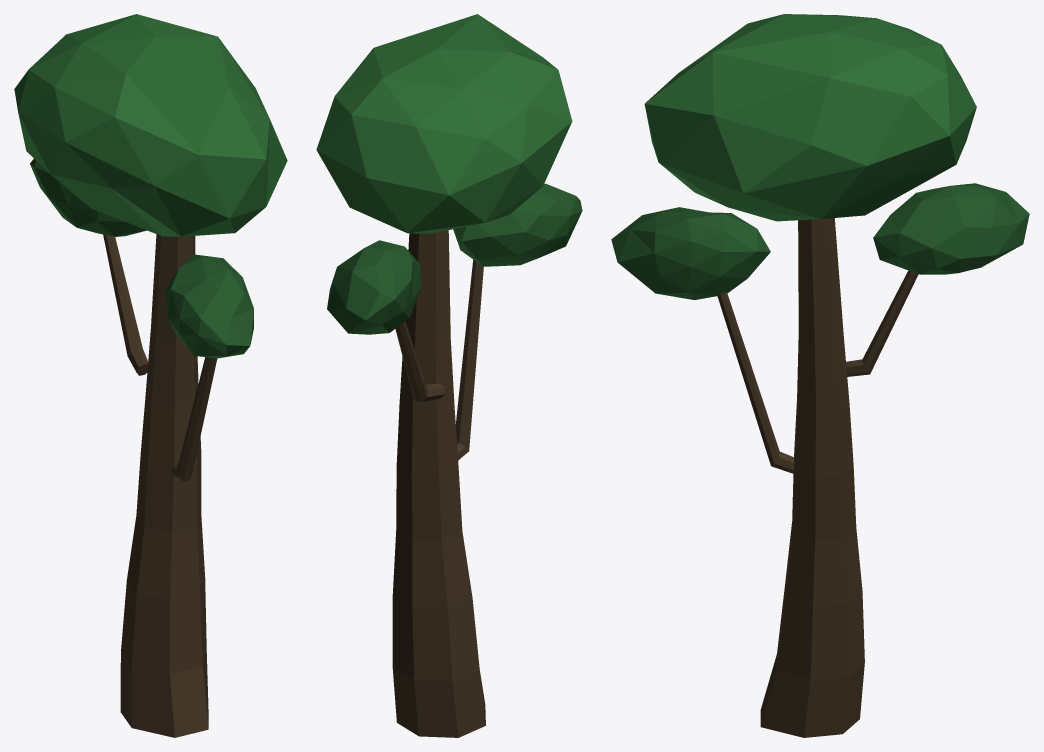
Rendered from tree_moody_verytall.glb.
3 renders of one model, left to right at view 1: azimuth 30°, elevation 25°; view 2: azimuth 150°, elevation 25°; view 3: azimuth 270°, elevation 25°, orthographic.
Visible parts, largest first — view 1: LeafLobe.001, Trunk, LeafLobe.003, LeafLobe.002, Branch.001, Branch.002; view 2: LeafLobe.001, Trunk, LeafLobe.002, LeafLobe.003, Branch.002, Branch.001; view 3: LeafLobe.001, Trunk, LeafLobe.003, LeafLobe.002, Branch.002, Branch.001.
Part boxes in pixels (<box>): LeafLobe.001: <box>14,14,287,236</box>; Trunk: <box>120,234,208,737</box>; LeafLobe.003: <box>165,254,253,358</box>; LeafLobe.002: <box>30,159,146,236</box>; Branch.001: <box>103,234,148,375</box>; Branch.002: <box>172,357,217,481</box>; LeafLobe.001: <box>316,14,572,233</box>; Trunk: <box>392,230,485,737</box>; LeafLobe.002: <box>327,240,420,334</box>; LeafLobe.003: <box>453,183,582,266</box>; Branch.002: <box>455,260,483,460</box>; Branch.001: <box>395,321,444,401</box>; LeafLobe.001: <box>644,14,976,221</box>; Trunk: <box>760,218,864,737</box>; LeafLobe.003: <box>611,207,770,299</box>; LeafLobe.002: <box>873,183,1029,274</box>; Branch.002: <box>717,292,793,473</box>; Branch.001: <box>846,270,918,376</box>.
Bounding box in the file's own units: 8.66 × 27.16 × 15.03.
